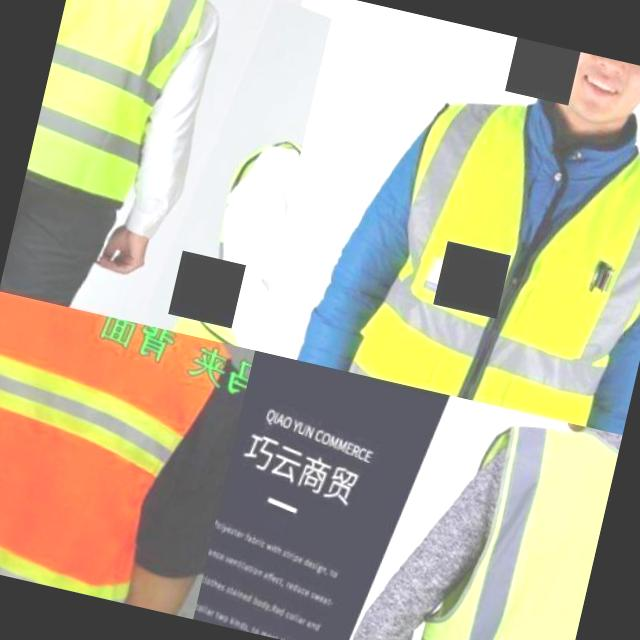vest: (335, 64, 640, 435), (0, 290, 231, 613), (382, 413, 617, 640), (22, 0, 220, 220)
